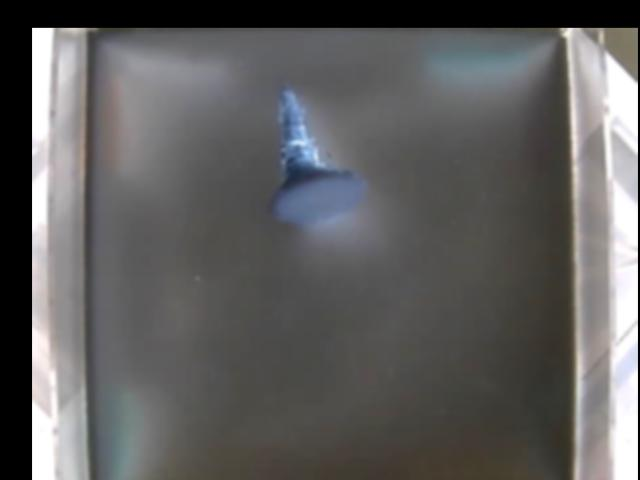Mooli: (271, 85, 368, 228)
